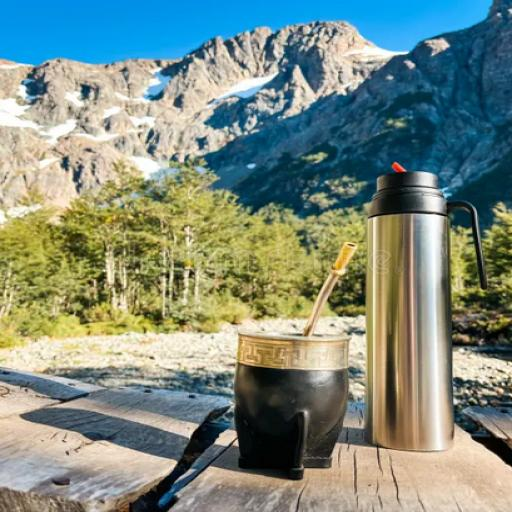mate: (239, 313, 349, 481)
termo: (363, 160, 465, 453)
